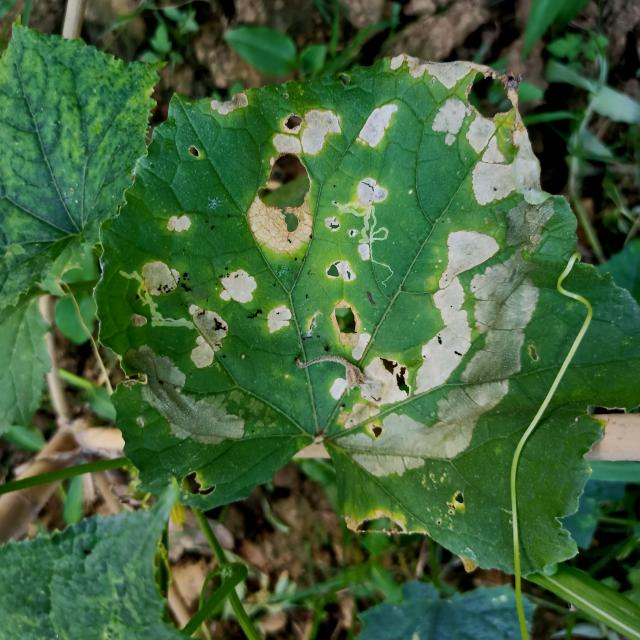disease_cucumber: (206, 57, 555, 224), (311, 224, 536, 482), (124, 196, 290, 443)
